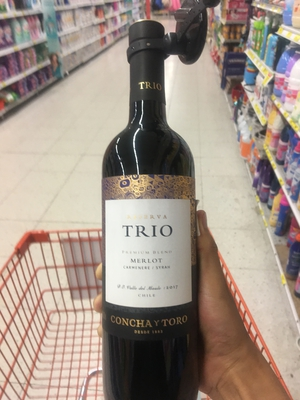trio merlot: (90, 29, 225, 388)
